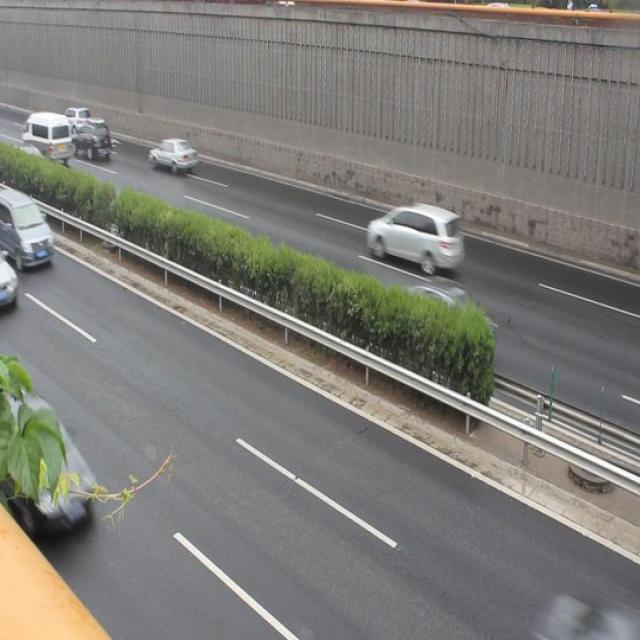car: (1, 382, 95, 532), (370, 279, 499, 368), (366, 200, 463, 269), (147, 135, 198, 172)
truck: (1, 187, 54, 270), (68, 122, 112, 160)
